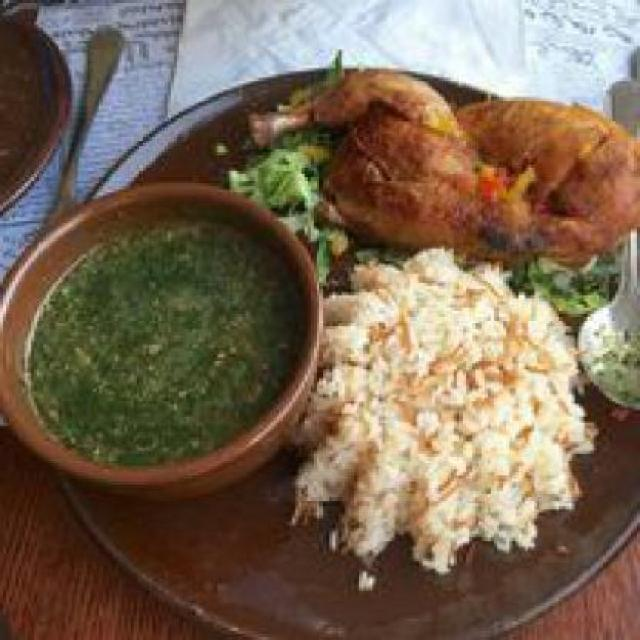fried rice: (295, 252, 588, 580)
molokhia: (16, 183, 304, 491)
